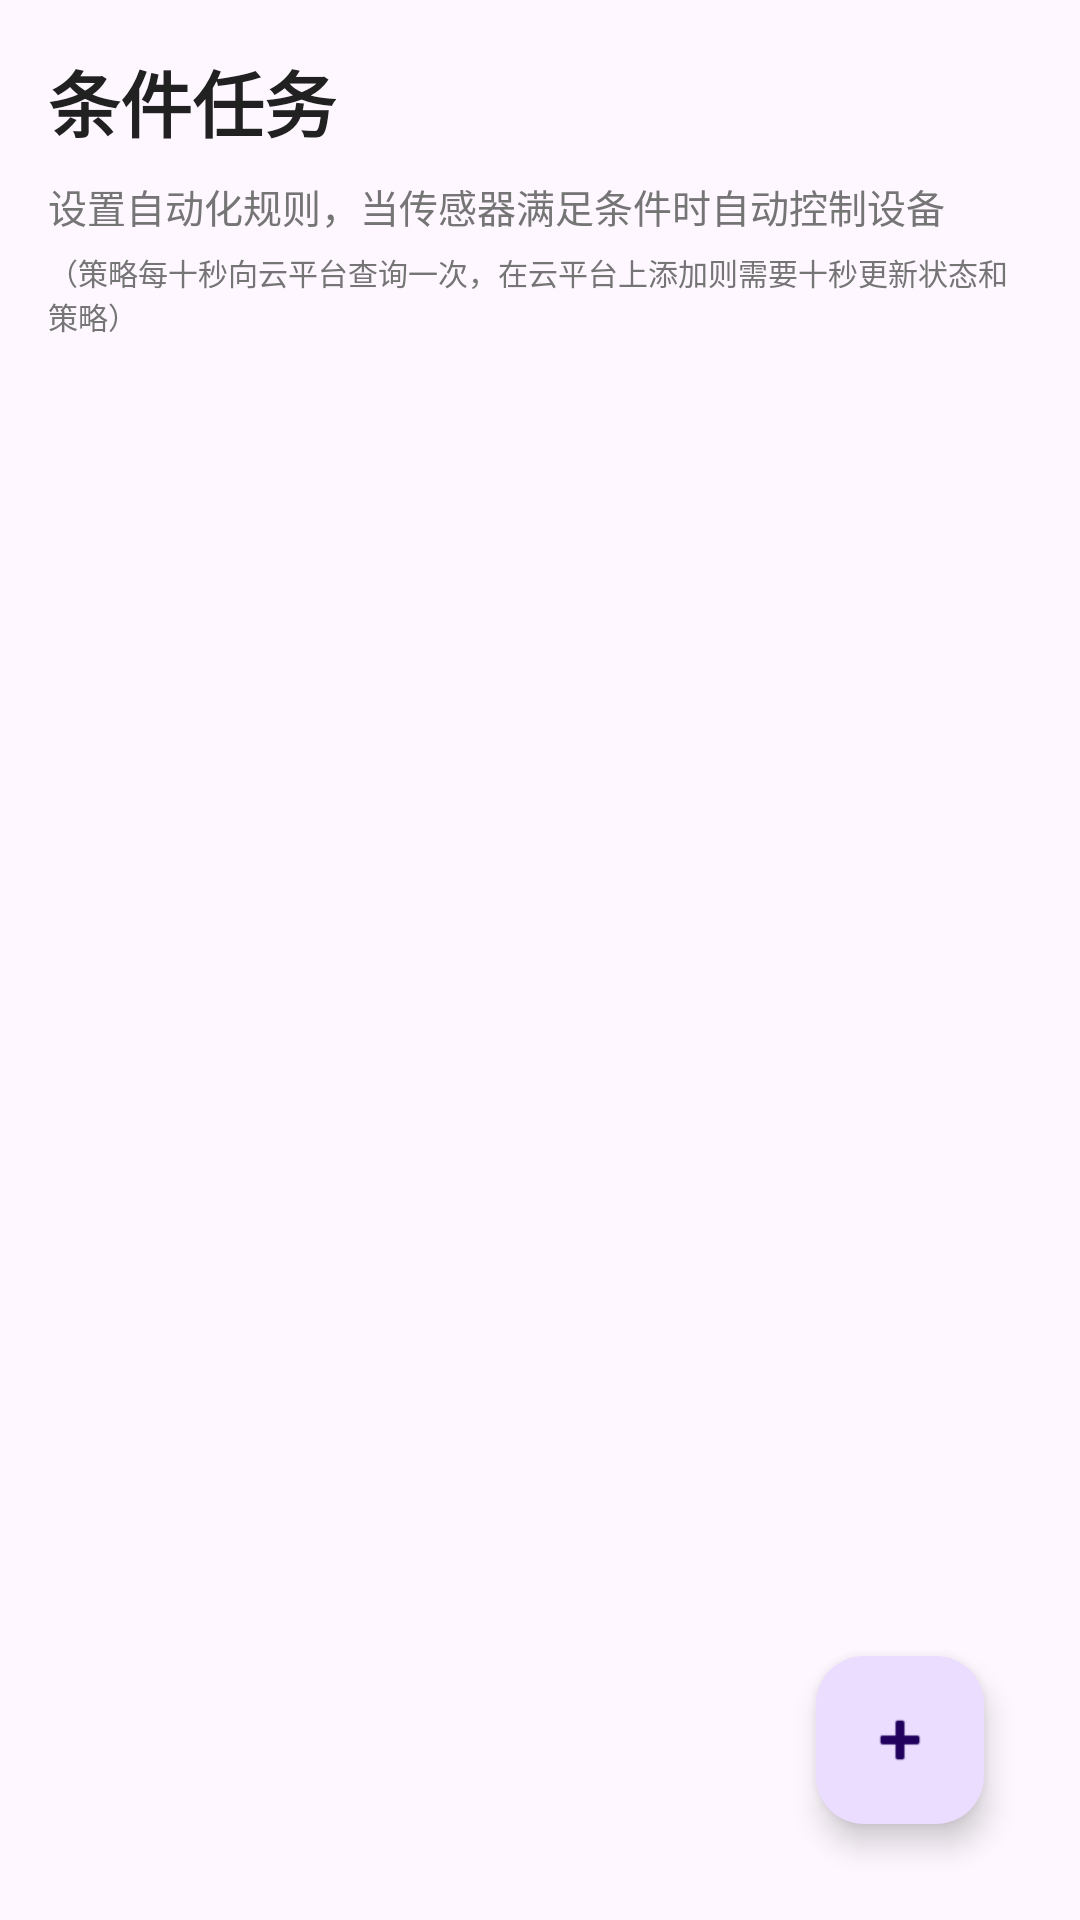

Where icons sit on this 1080x1920 app screen, as (x1, y1, x2, y2):
添加规则: (816, 1656, 984, 1824)
